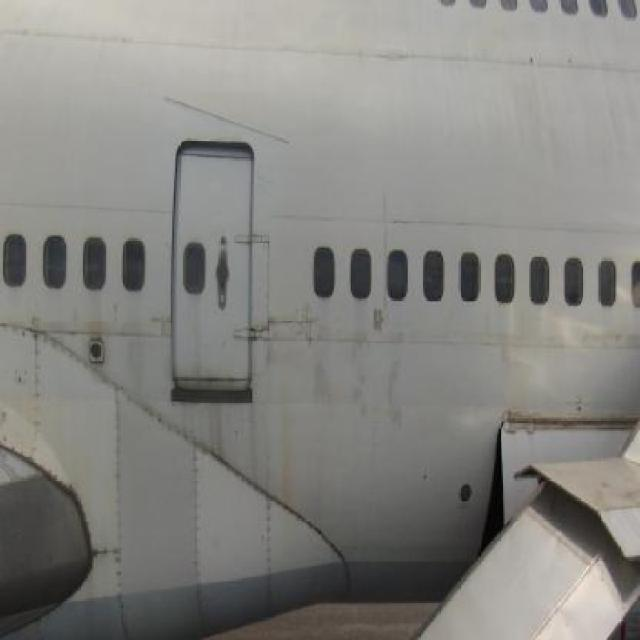Missing-Rivet: (7, 310, 51, 455)
Rust: (270, 370, 304, 518)
Scartch: (367, 302, 391, 361)
